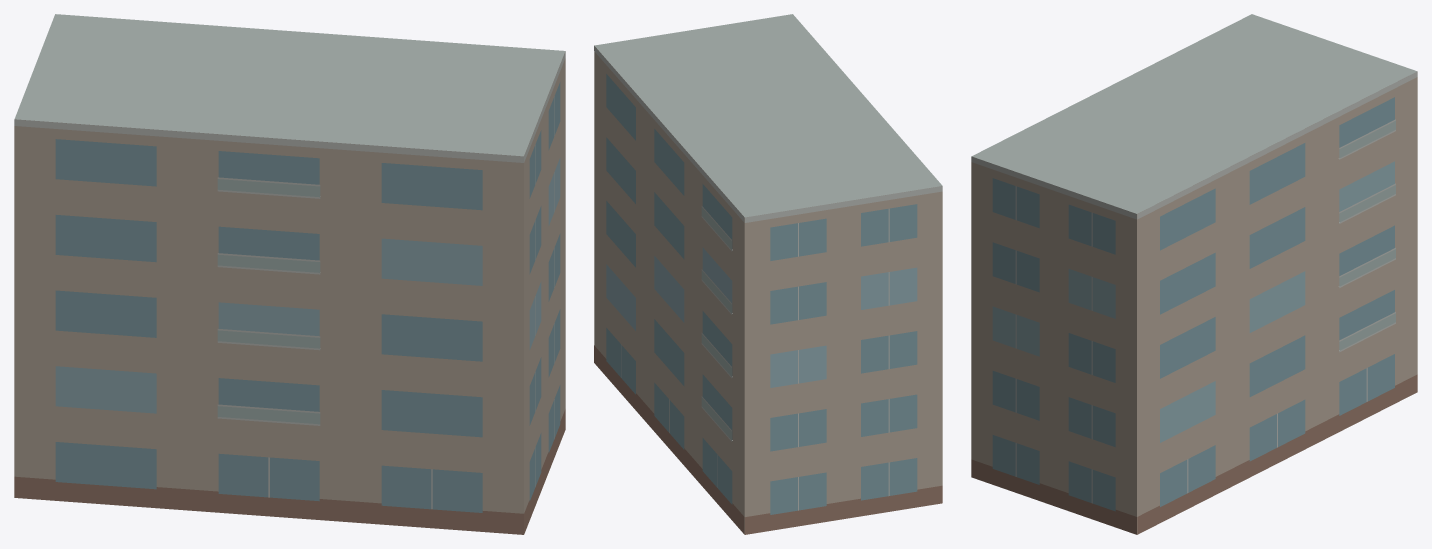
File: survey-upis-32963100.glb
3 views of the same model, side by side, from view 1: azimuth 30°, elevation 25°; view 2: azimuth 150°, elevation 25°; view 3: azimuth 270°, elevation 25° (orthographic). The views are drawn at different scales.
Visible parts, largest first — view 1: survey-upis-32963100.tmp; view 2: survey-upis-32963100.tmp; view 3: survey-upis-32963100.tmp.
Boxes of the visible parts, left/top/right/bottom form: survey-upis-32963100.tmp: left=14, top=14, right=565, bottom=534; survey-upis-32963100.tmp: left=594, top=14, right=942, bottom=534; survey-upis-32963100.tmp: left=971, top=14, right=1417, bottom=534.
Size of the model in its own units: 18.52 by 13.85 by 17.46.
